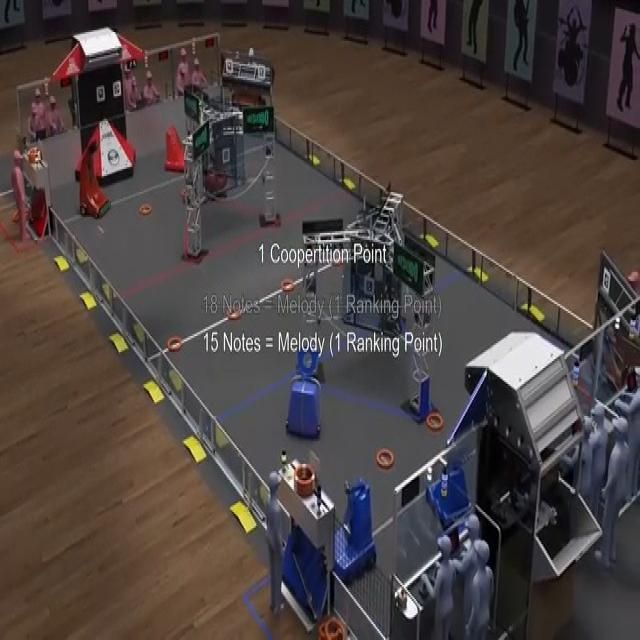notes: (427, 411, 443, 431), (376, 450, 393, 468), (168, 336, 182, 352), (281, 278, 293, 293), (140, 204, 151, 215), (228, 311, 239, 321)
